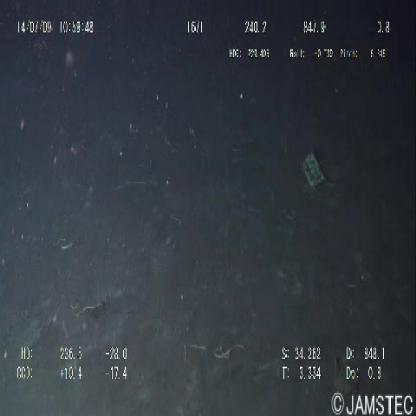Rác: (302, 153, 324, 193)
